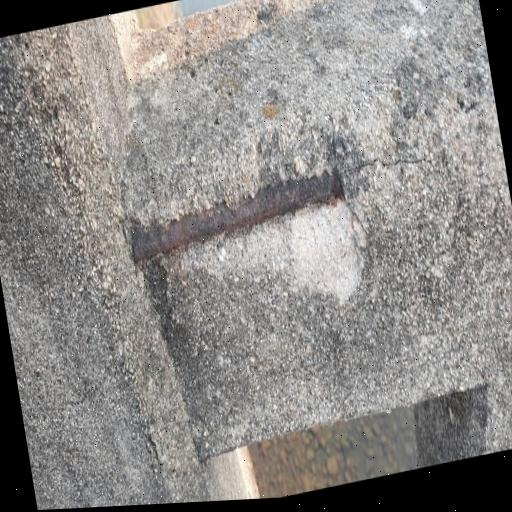exposed_rebar: (131, 172, 343, 262)
